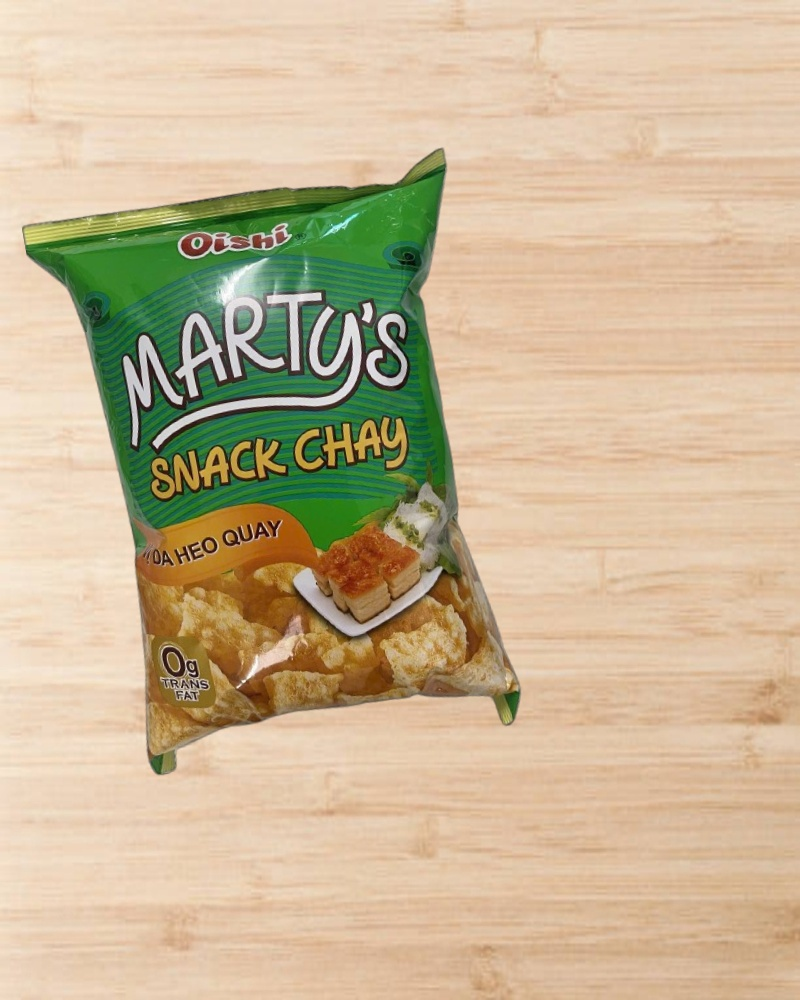Snack chay: (22, 148, 545, 794)
